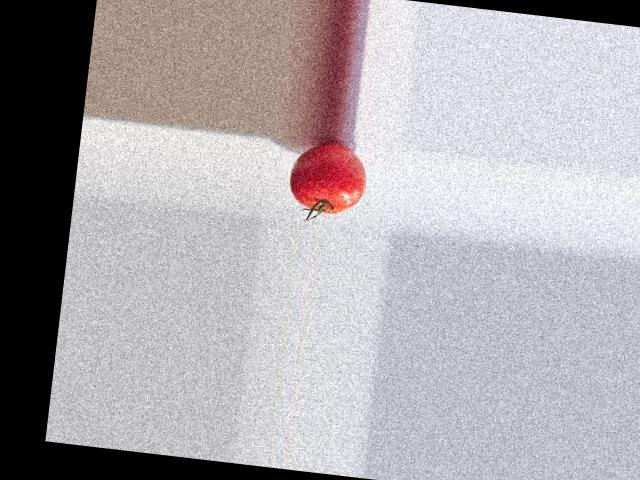tomato: (287, 137, 370, 216)
